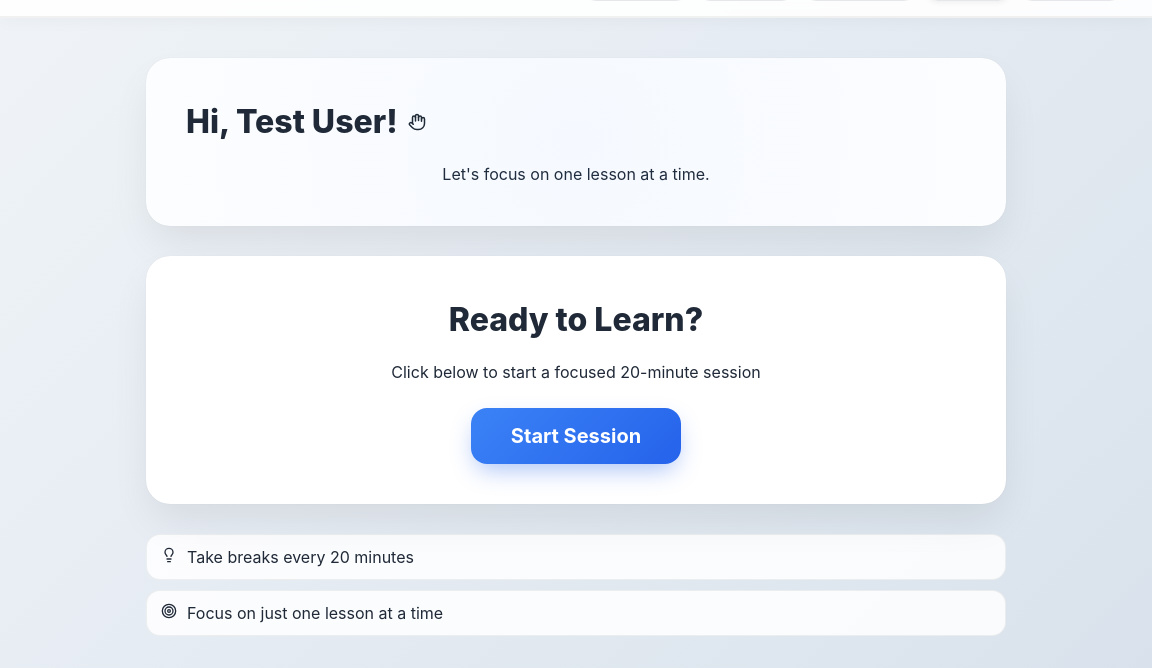
Test: ADHDView Component - ADHD Learning Features › 2. Lesson Selection & Navigation › should show Open All Lessons CTA after session starts
Click the button "Start Session".
click(576, 436)  # box [471, 408, 681, 464]
(page scrolled)
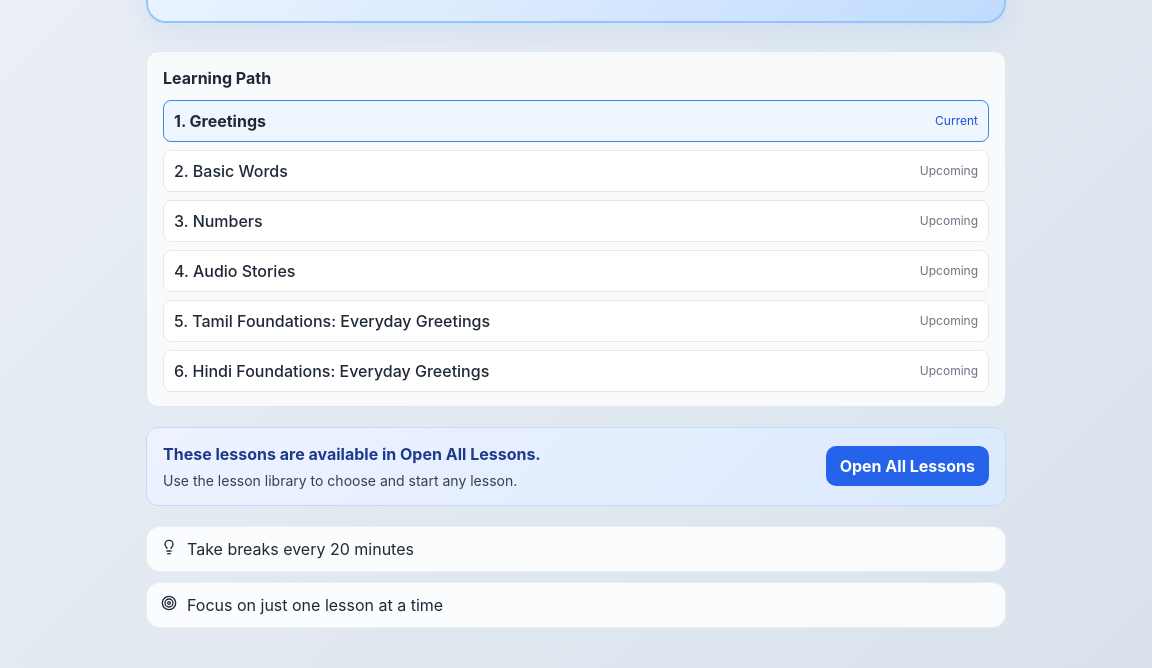
Check: the text "These lessons are available in Open All Lessons." is shown, box [163, 442, 541, 466]
Check: the button "Open All Lessons" is shown, box [826, 446, 989, 486]
